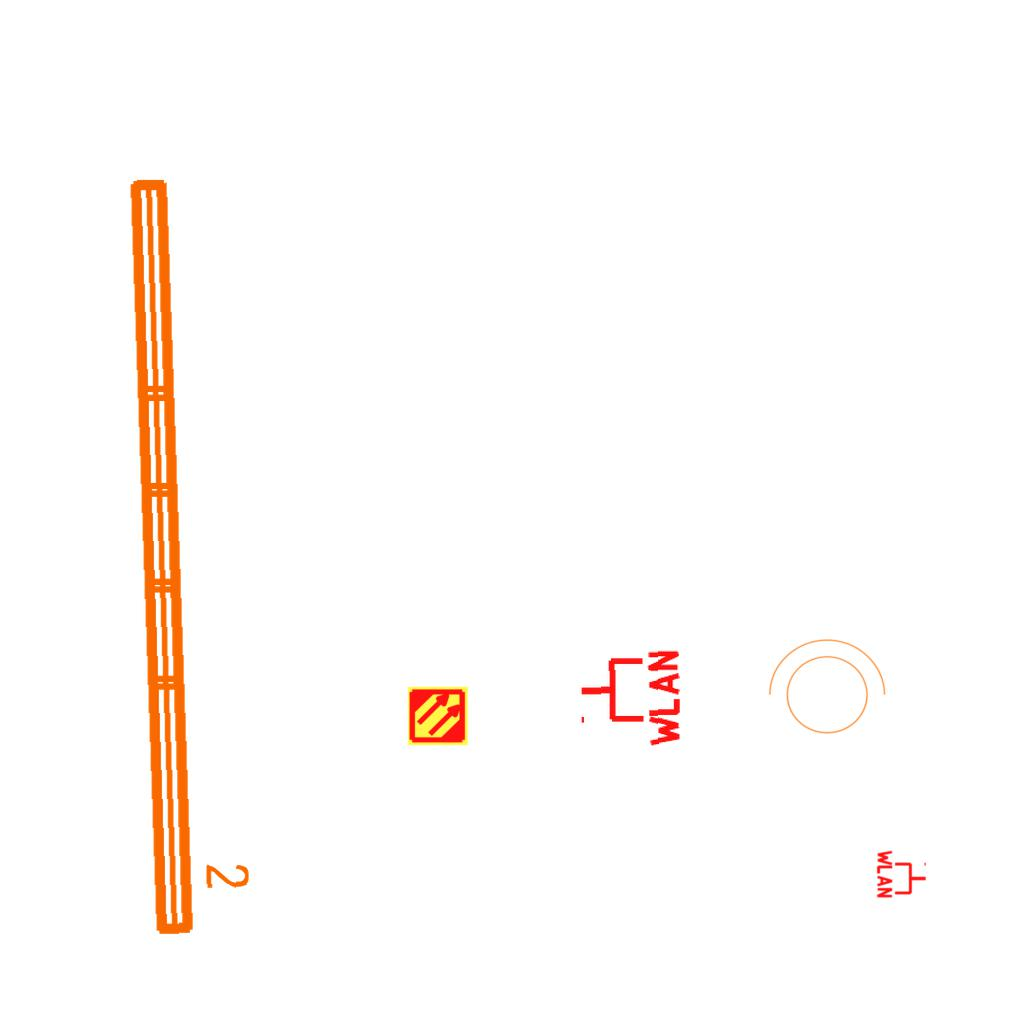ASR_Ansaugrauchmelder: (407, 685, 469, 747)
Ambulanz_Pendelleuchte_LED: (117, 166, 257, 944)
Scheinwerfer_fuer_Alarmbeleuchtung: (758, 634, 890, 746)
WLAN: (576, 646, 683, 752), (876, 848, 928, 900)
